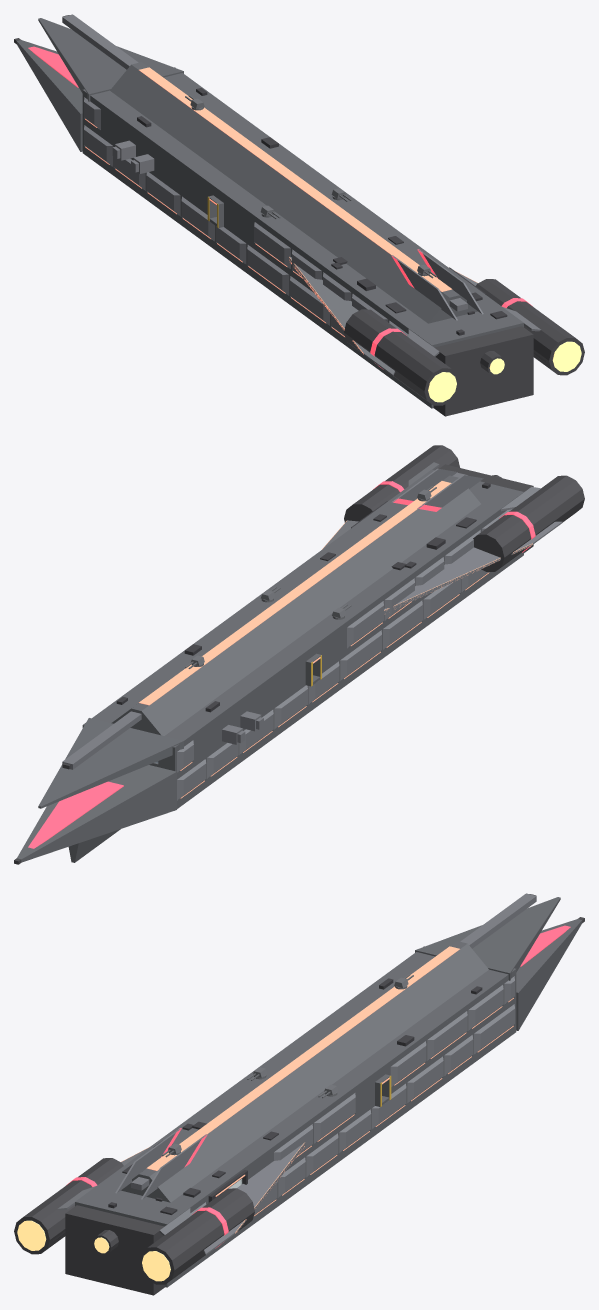
Rendered from ship_SMALL_DROP_FRIGATE.glb.
3 views of the same model, one above another, from view 1: azimuth 30°, elevation 25°; view 2: azimuth 150°, elevation 25°; view 3: azimuth 330°, elevation 25° (orthographic).
Parts seen in each view (by area): view 1: SMALL_DROP_FRIGATE_Hull-col, SMALL_DROP_FRIGATE_Engines, SMALL_DROP_FRIGATE_Armor, SMALL_DROP_FRIGATE_Lights, SMALL_DROP_FRIGATE_EngineGlow, SMALL_DROP_FRIGATE_Accent, SMALL_DROP_FRIGATE_Details; view 2: SMALL_DROP_FRIGATE_Hull-col, SMALL_DROP_FRIGATE_Armor, SMALL_DROP_FRIGATE_Engines, SMALL_DROP_FRIGATE_Lights, SMALL_DROP_FRIGATE_Accent, SMALL_DROP_FRIGATE_Details; view 3: SMALL_DROP_FRIGATE_Hull-col, SMALL_DROP_FRIGATE_Armor, SMALL_DROP_FRIGATE_Engines, SMALL_DROP_FRIGATE_Lights, SMALL_DROP_FRIGATE_EngineGlow, SMALL_DROP_FRIGATE_Accent, SMALL_DROP_FRIGATE_Details.
Boxes of the visible parts, bbox=[...] form: SMALL_DROP_FRIGATE_Hull-col: bbox=[16, 18, 523, 408]; SMALL_DROP_FRIGATE_Engines: bbox=[14, 15, 584, 416]; SMALL_DROP_FRIGATE_Armor: bbox=[62, 14, 540, 375]; SMALL_DROP_FRIGATE_Lights: bbox=[85, 67, 477, 354]; SMALL_DROP_FRIGATE_EngineGlow: bbox=[428, 341, 581, 402]; SMALL_DROP_FRIGATE_Accent: bbox=[28, 46, 532, 369]; SMALL_DROP_FRIGATE_Details: bbox=[137, 88, 507, 335]; SMALL_DROP_FRIGATE_Hull-col: bbox=[17, 469, 523, 862]; SMALL_DROP_FRIGATE_Armor: bbox=[62, 462, 562, 800]; SMALL_DROP_FRIGATE_Engines: bbox=[14, 445, 584, 864]; SMALL_DROP_FRIGATE_Lights: bbox=[139, 481, 532, 798]; SMALL_DROP_FRIGATE_Accent: bbox=[28, 481, 535, 848]; SMALL_DROP_FRIGATE_Details: bbox=[116, 482, 490, 712]; SMALL_DROP_FRIGATE_Hull-col: bbox=[75, 897, 582, 1287]; SMALL_DROP_FRIGATE_Armor: bbox=[58, 893, 536, 1254]; SMALL_DROP_FRIGATE_Engines: bbox=[14, 894, 584, 1295]; SMALL_DROP_FRIGATE_Lights: bbox=[121, 946, 513, 1233]; SMALL_DROP_FRIGATE_EngineGlow: bbox=[17, 1220, 170, 1281]; SMALL_DROP_FRIGATE_Accent: bbox=[66, 925, 570, 1248]; SMALL_DROP_FRIGATE_Details: bbox=[108, 978, 482, 1214].
Bounding box in the file's own units: 25.51 × 16.45 × 127.
